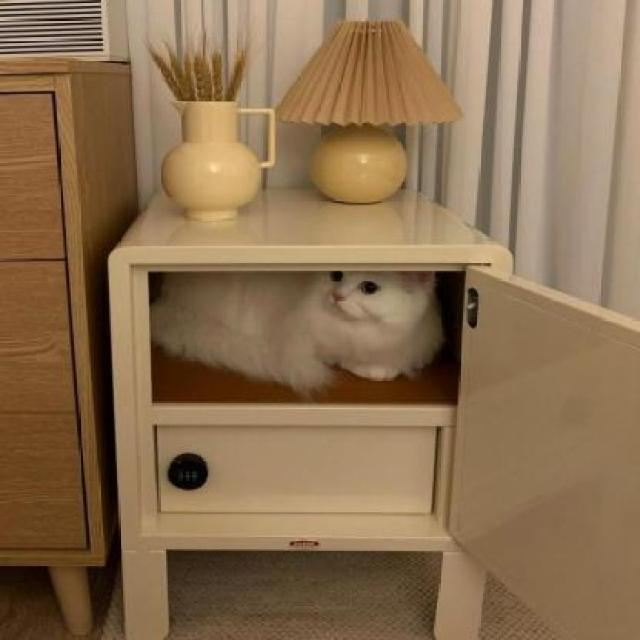cat: (147, 266, 451, 406)
